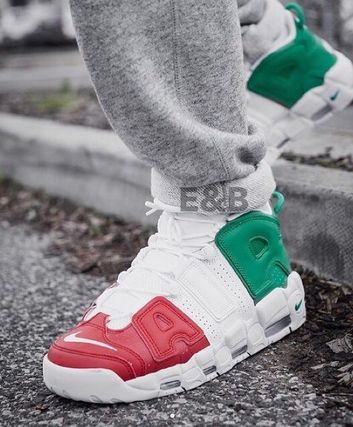Nike Air Uptempo '96 Italy: (36, 157, 332, 410)
